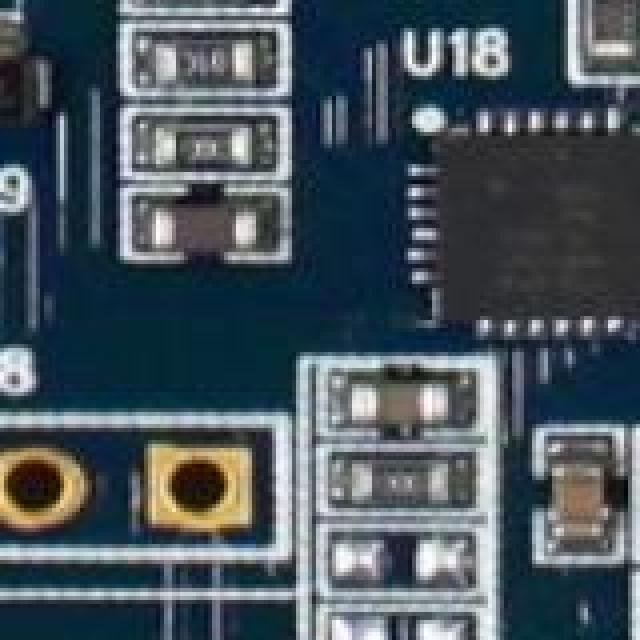IC: (412, 96, 640, 336)
capacitor: (148, 196, 288, 258), (352, 372, 472, 440), (564, 444, 626, 554)
resistor: (124, 96, 280, 190), (132, 36, 284, 98), (580, 0, 640, 96), (140, 0, 284, 28)
